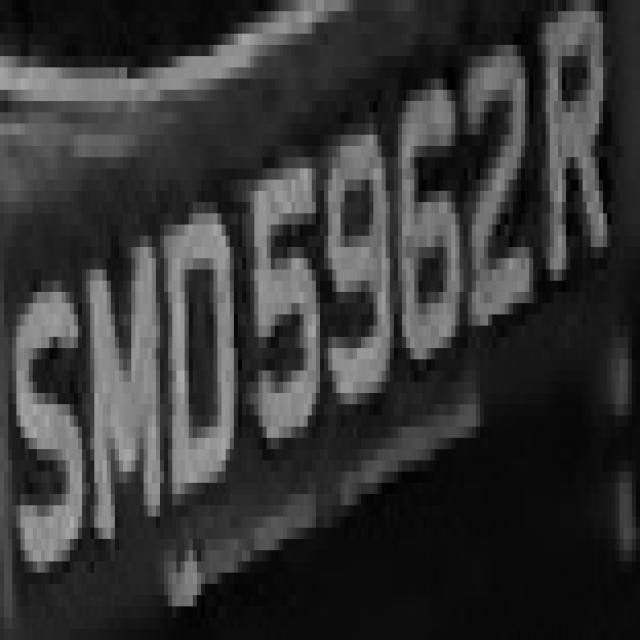2: (456, 11, 538, 393)
5: (242, 123, 328, 460)
6: (386, 45, 472, 393)
9: (316, 78, 402, 438)
D: (160, 168, 242, 539)
M: (82, 224, 164, 584)
R: (538, 34, 612, 348)
S: (4, 247, 86, 595)
